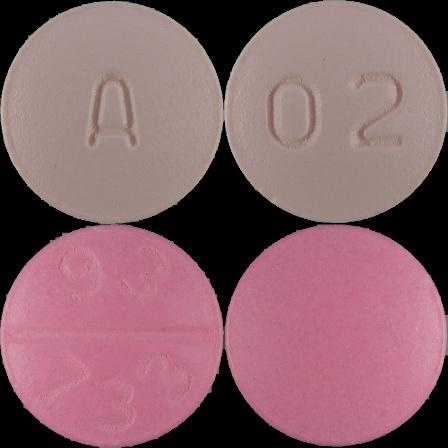48433-311: (0, 0, 224, 224)
